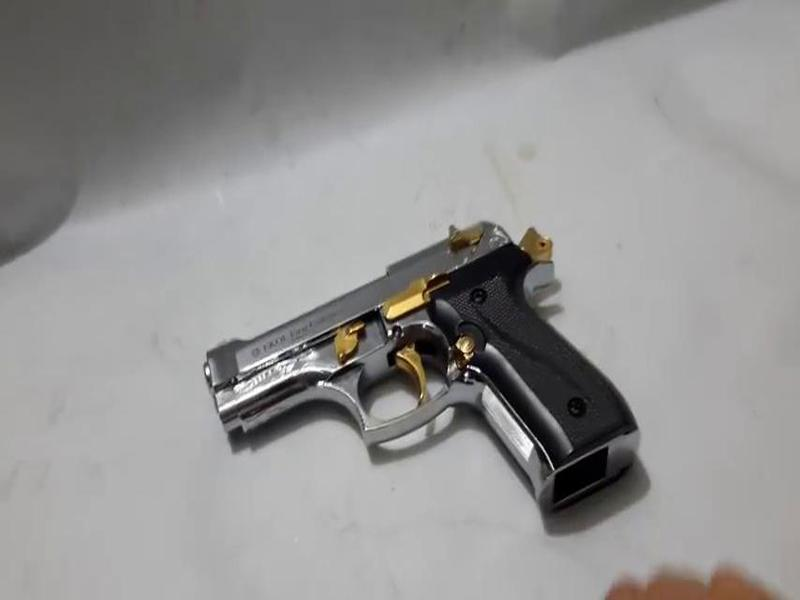Pistola: (167, 213, 681, 523)
